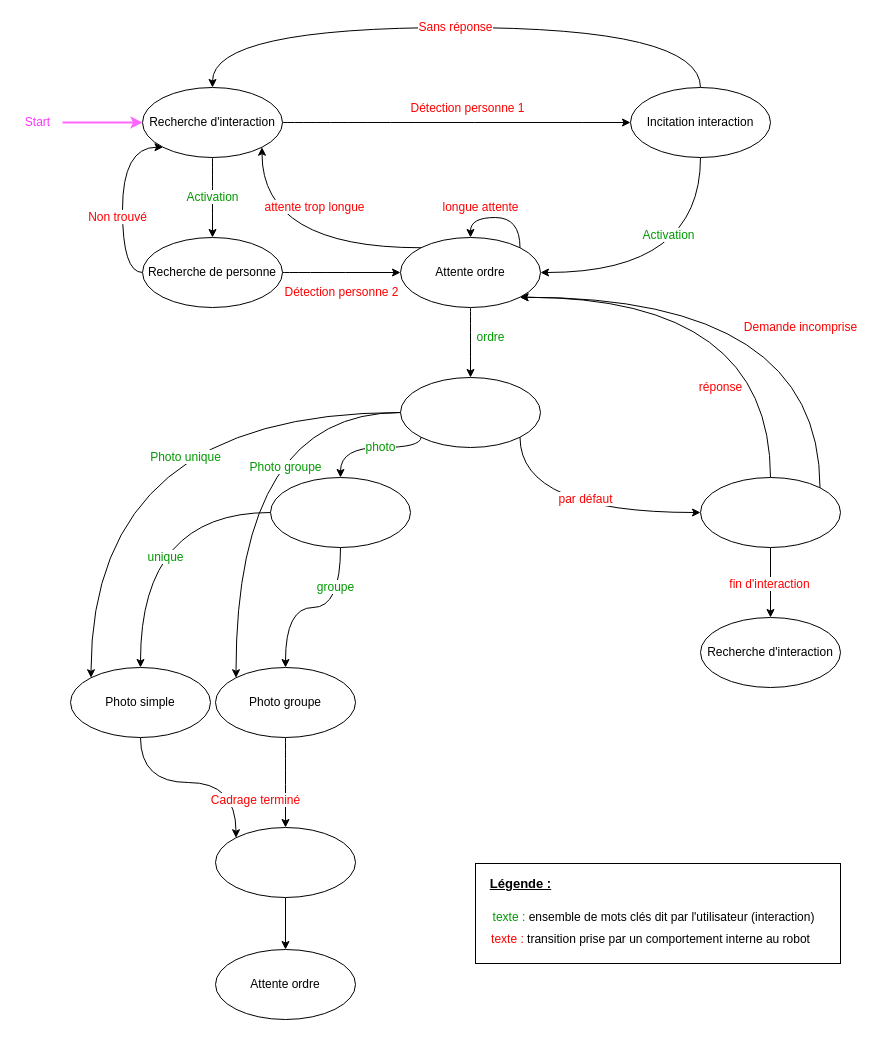
Some shapes in this 882 by 1037 pixel diagram are drawn without their labels. The shapes that lost their labels are listed below. From the top down, each one's centre as x and y in pixels, then its label:
the point at 470,412: Traitement ordre
the point at 340,512: Photo sans précision
the point at 770,512: Conversation
the point at 285,862: Prise de la photo
